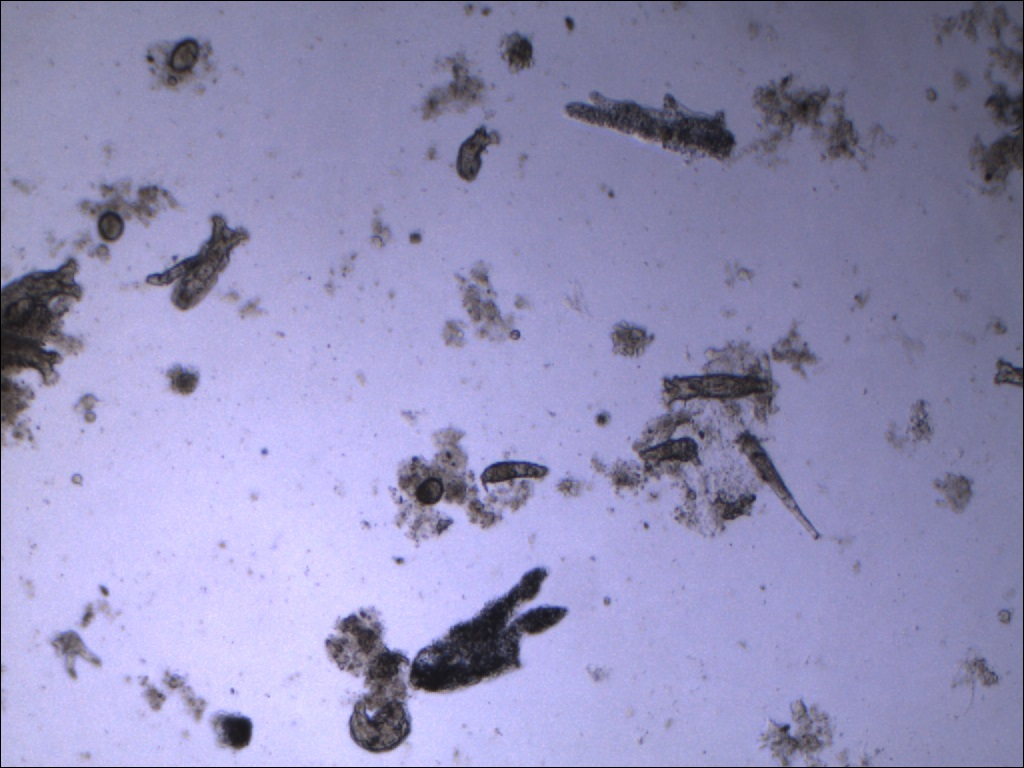amoeba: (405, 562, 578, 701), (560, 86, 740, 167)
